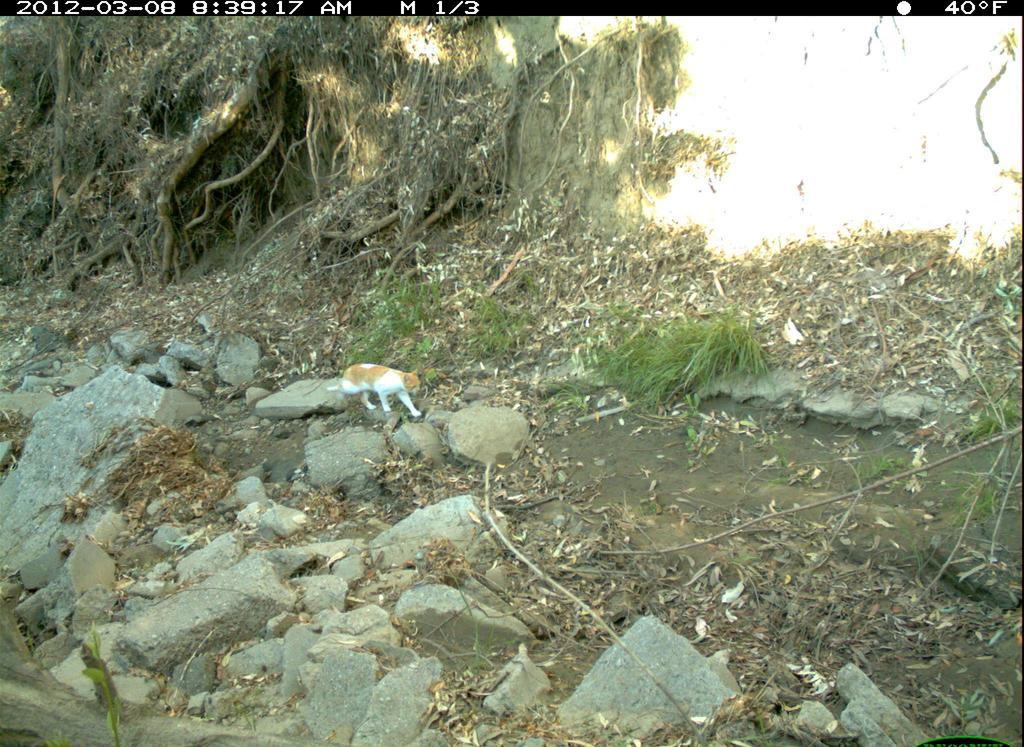cat: (332, 361, 425, 429)
